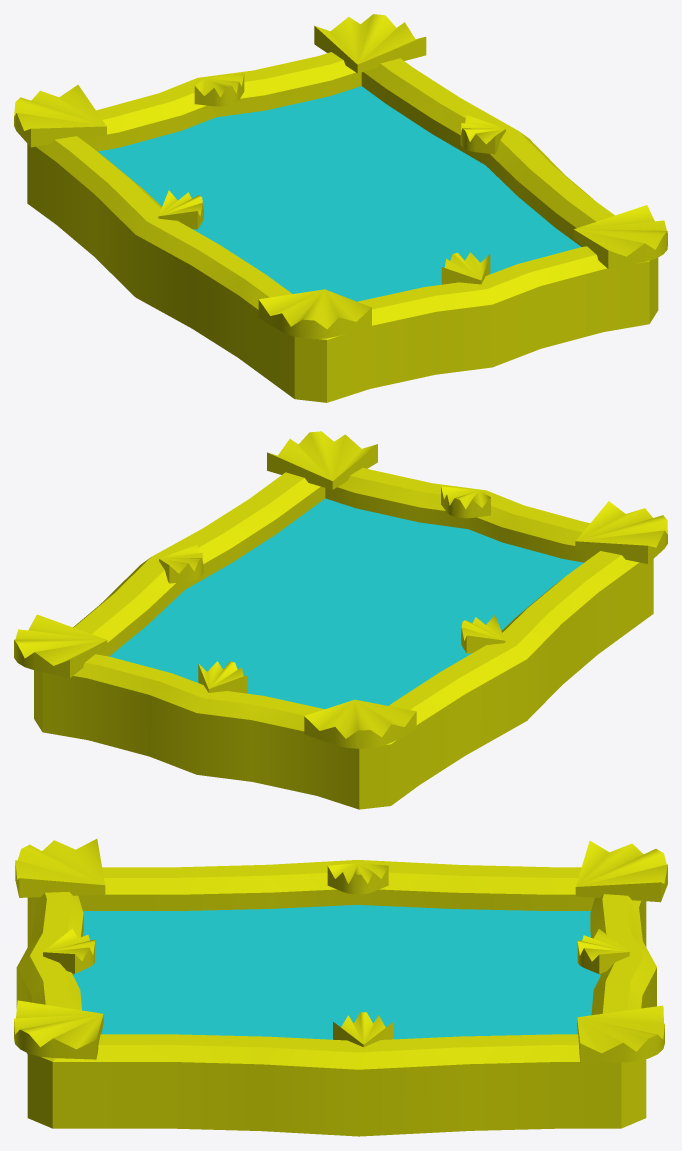
File: FrameFinished.fbx
The picture shows the model from 3 angles, top to bottom: view 1: azimuth 30°, elevation 25°; view 2: azimuth 150°, elevation 25°; view 3: azimuth 270°, elevation 25°; orthographic projection. The views are drawn at different scales.
Visible parts, largest first — view 1: pCube10; view 2: pCube10; view 3: pCube10.
Boxes of the visible parts, left/top/right/bottom form: pCube10: left=14, top=14, right=667, bottom=402; pCube10: left=14, top=431, right=667, bottom=809; pCube10: left=14, top=838, right=667, bottom=1136.
Bounding box in the file's own units: 5.61 × 1.2 × 7.58.
